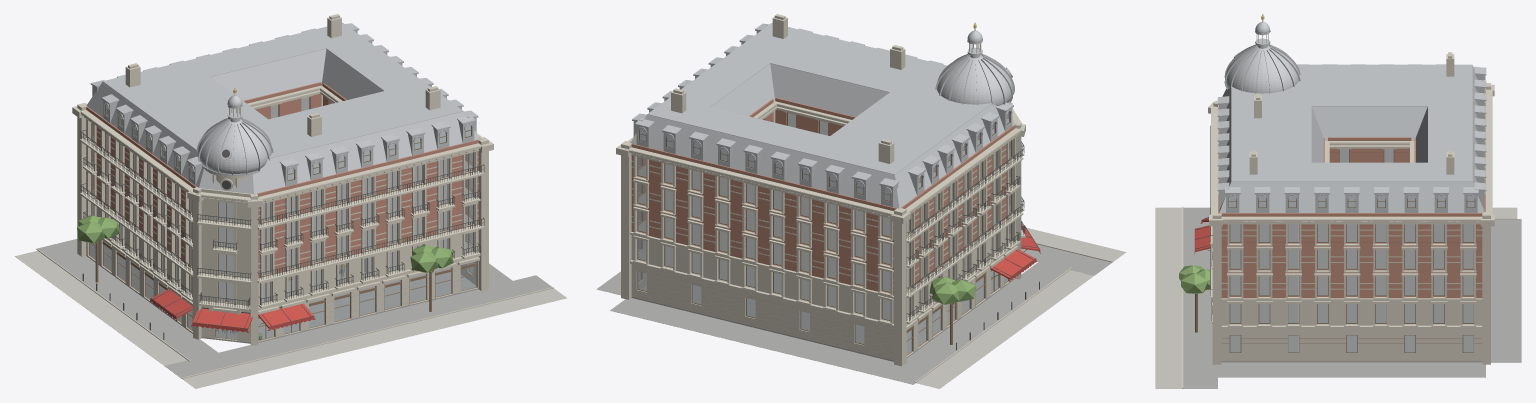
Rendered from clay-zinc-dome-corner-block-clay-v001.glb.
3 views of the same model, side by side, from view 1: azimuth 30°, elevation 25°; view 2: azimuth 150°, elevation 25°; view 3: azimuth 270°, elevation 25° (orthographic). The views are drawn at different scales.
Parts seen in each view (by area): view 1: CLAY_STONE, CLAY_ZINC, CLAY_FOUNDATION, CLAY_GLASS, CLAY_WALL, CLAY_CONCRETE, CLAY_HARDWARE, CLAY_FLOOR, CLAY_TRIM, CLAY_AWNING, CLAY_PLANTING, CLAY_TIMBER; view 2: CLAY_STONE, CLAY_ZINC, CLAY_WALL, CLAY_FOUNDATION, CLAY_GLASS, CLAY_FLOOR, CLAY_CONCRETE, CLAY_TRIM, CLAY_HARDWARE, CLAY_AWNING, CLAY_PLANTING, CLAY_TIMBER; view 3: CLAY_ZINC, CLAY_STONE, CLAY_FOUNDATION, CLAY_WALL, CLAY_GLASS, CLAY_FLOOR, CLAY_CONCRETE, CLAY_TRIM, CLAY_PLANTING, CLAY_JOINT, CLAY_AWNING, CLAY_HARDWARE.
Boxes of the visible parts, box(x1,y1,x2,y2) form: CLAY_STONE: box(37, 17, 553, 378); CLAY_ZINC: box(86, 22, 479, 194); CLAY_FOUNDATION: box(36, 239, 552, 378); CLAY_GLASS: box(89, 87, 476, 339); CLAY_WALL: box(86, 82, 481, 277); CLAY_CONCRETE: box(15, 250, 566, 388); CLAY_HARDWARE: box(80, 130, 484, 339); CLAY_FLOOR: box(92, 95, 472, 301); CLAY_TRIM: box(91, 97, 473, 302); CLAY_AWNING: box(150, 289, 315, 332); CLAY_PLANTING: box(77, 215, 453, 339); CLAY_TIMBER: box(89, 240, 477, 340); CLAY_STONE: box(616, 17, 1112, 382); CLAY_ZINC: box(630, 22, 1015, 208); CLAY_WALL: box(629, 97, 1016, 295); CLAY_FOUNDATION: box(596, 244, 1111, 384); CLAY_GLASS: box(638, 111, 1010, 354); CLAY_FLOOR: box(638, 111, 1010, 319); CLAY_CONCRETE: box(916, 227, 1126, 388); CLAY_TRIM: box(637, 111, 1011, 344); CLAY_HARDWARE: box(906, 70, 1039, 350); CLAY_AWNING: box(990, 225, 1040, 281); CLAY_PLANTING: box(929, 276, 1007, 304); CLAY_TIMBER: box(906, 270, 1009, 355); CLAY_ZINC: box(1217, 22, 1486, 212); CLAY_STONE: box(1182, 54, 1517, 388); CLAY_FOUNDATION: box(1183, 207, 1521, 388); CLAY_WALL: box(1218, 88, 1485, 298); CLAY_GLASS: box(1229, 149, 1474, 352); CLAY_FLOOR: box(1230, 149, 1473, 322); CLAY_CONCRETE: box(1155, 207, 1517, 388); CLAY_TRIM: box(1228, 149, 1475, 353); CLAY_PLANTING: box(1179, 265, 1210, 293); CLAY_JOINT: box(1222, 152, 1481, 343); CLAY_AWNING: box(1194, 217, 1210, 254); CLAY_HARDWARE: box(1195, 125, 1212, 320).
Bounding box in the file's own units: 48 × 29.5 × 41.
